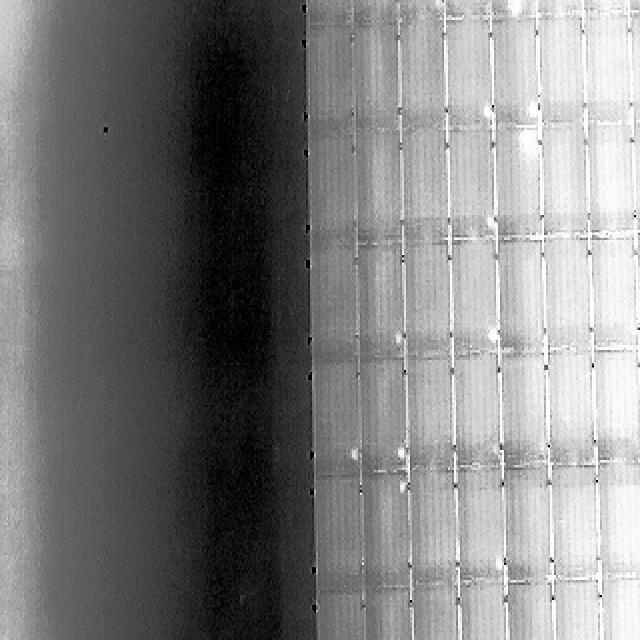Hotspots: (520, 130, 536, 152), (504, 0, 525, 16), (395, 442, 407, 462), (347, 446, 360, 463), (482, 104, 494, 122), (487, 327, 499, 344), (394, 331, 405, 349), (527, 100, 539, 116), (494, 555, 504, 574), (396, 479, 406, 496), (486, 215, 494, 231)
PV-modules: (546, 349, 596, 464), (353, 134, 403, 249), (505, 466, 554, 582), (549, 464, 598, 580), (399, 17, 448, 132), (356, 361, 405, 476), (408, 470, 457, 585), (452, 240, 501, 354), (405, 359, 454, 473), (402, 242, 451, 356), (358, 473, 407, 587), (400, 131, 449, 245), (493, 128, 542, 242), (498, 352, 547, 465), (313, 364, 361, 479), (312, 246, 359, 363), (353, 246, 402, 358), (455, 353, 503, 467), (442, 17, 490, 131), (543, 238, 591, 352), (587, 124, 636, 235), (314, 478, 363, 589), (351, 24, 400, 134), (457, 475, 506, 585), (590, 239, 638, 351), (310, 136, 357, 250), (585, 16, 633, 127), (496, 241, 543, 352), (540, 124, 587, 235), (538, 18, 586, 126), (489, 19, 537, 127), (449, 127, 496, 237), (594, 348, 640, 460), (308, 26, 354, 135), (598, 460, 640, 578), (458, 582, 508, 640), (552, 582, 600, 640), (504, 582, 552, 640), (410, 585, 460, 640), (360, 587, 408, 640), (600, 580, 640, 640), (316, 590, 364, 640), (628, 15, 640, 125), (307, 0, 354, 27), (350, 1, 399, 26), (630, 122, 640, 230), (398, 1, 446, 22), (441, 0, 490, 20), (490, 1, 538, 20), (632, 235, 640, 347), (538, 0, 584, 18), (586, 0, 634, 15), (638, 345, 640, 457), (628, 0, 640, 15)
